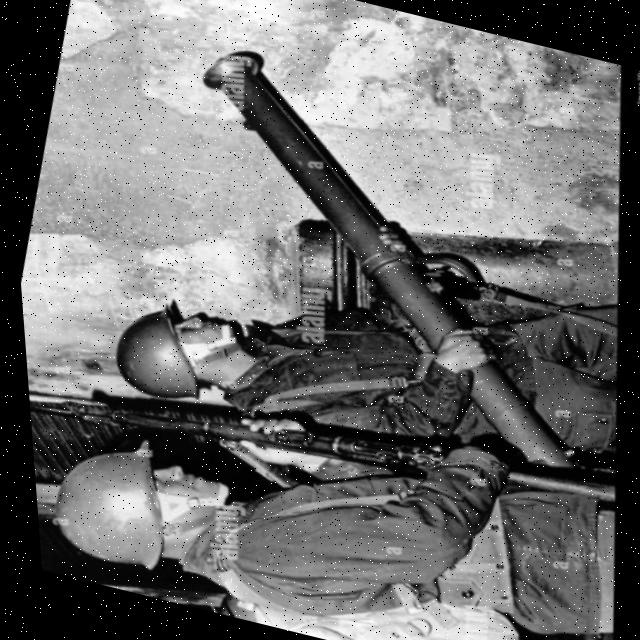rocket: (101, 0, 640, 521)
